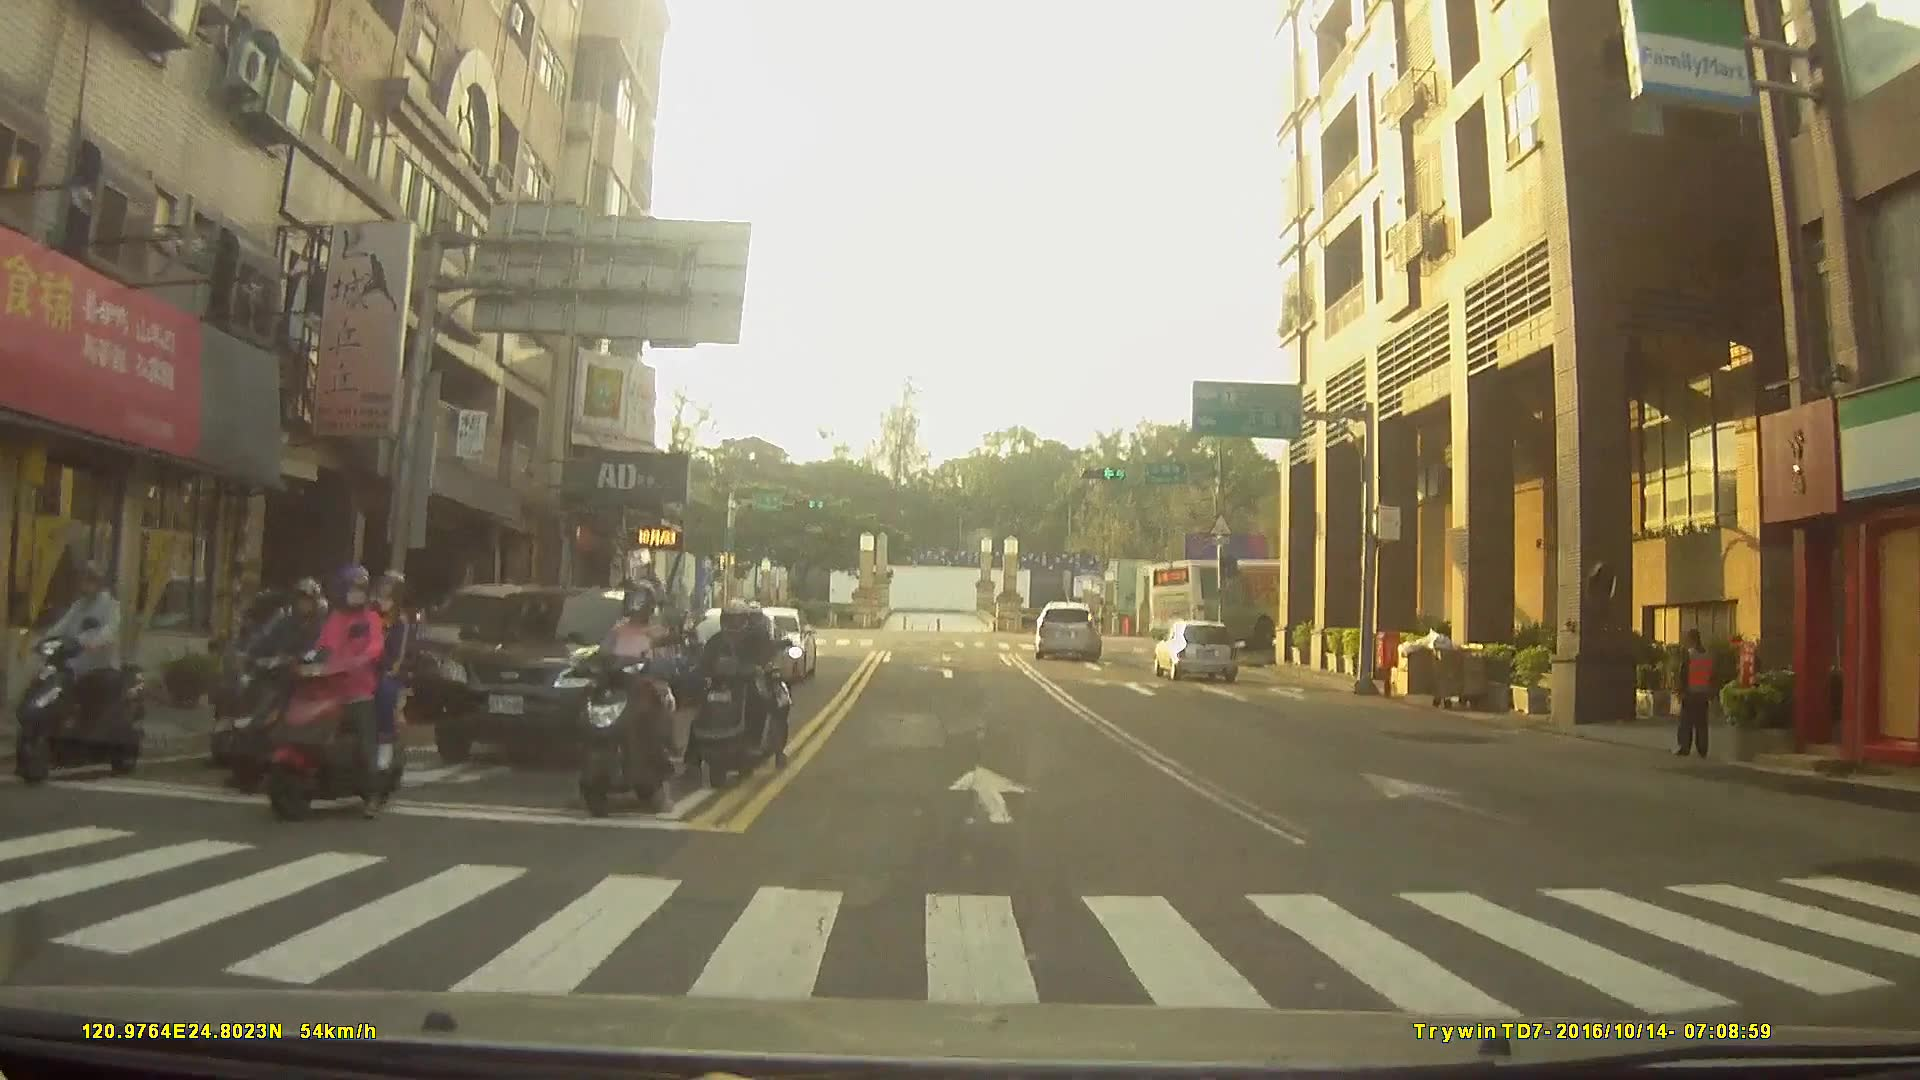pedestrian: (1664, 624, 1726, 761)
rider: (256, 561, 414, 817), (565, 575, 692, 814), (15, 559, 150, 780), (225, 575, 364, 786), (686, 596, 785, 790)
vehicle: (425, 582, 677, 760), (1145, 550, 1380, 643), (1150, 619, 1238, 680), (1031, 600, 1103, 657)
